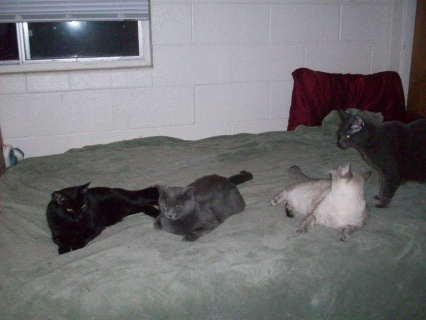Cat: (338, 110, 426, 209), (44, 181, 160, 255), (267, 161, 372, 241), (152, 171, 253, 240)
